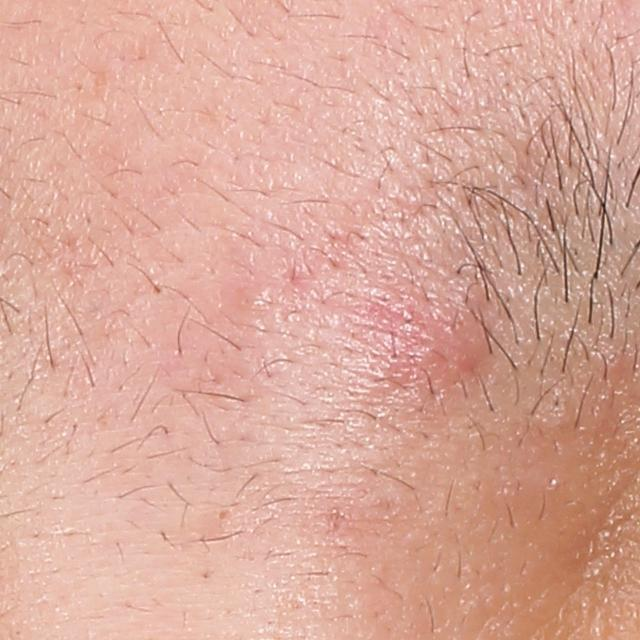comedo: (215, 505, 233, 522)
